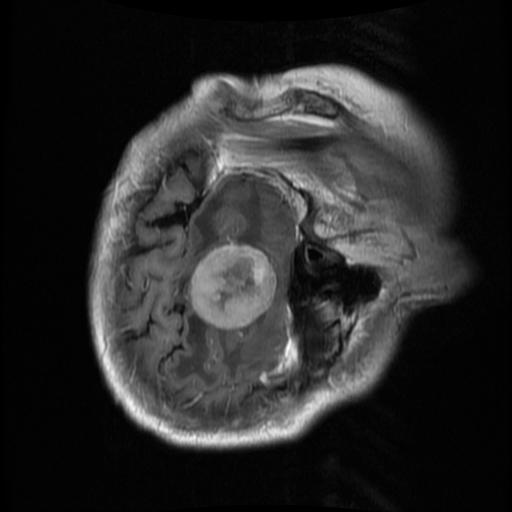meningioma: (188, 244, 276, 329)
